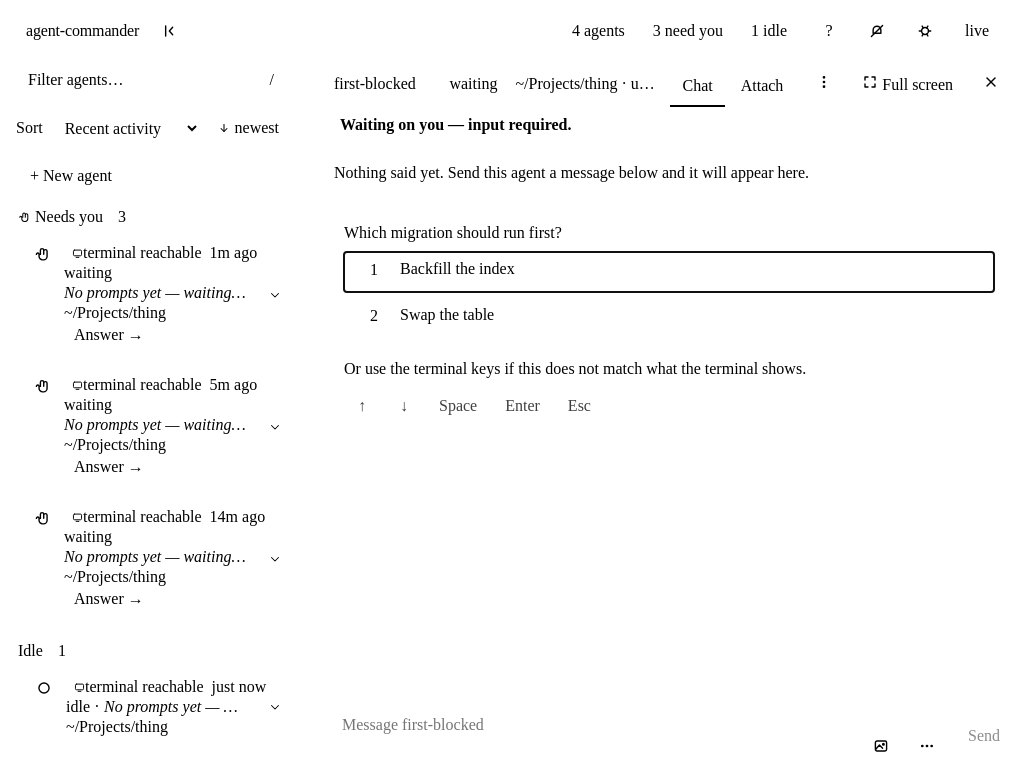
Test: F3 the hand-off after an answer › stays after the card has gone, for the next scan
Click the button with test id "answer-option" showing "1 Backfill the index": (457, 268) [344, 252, 994, 292]
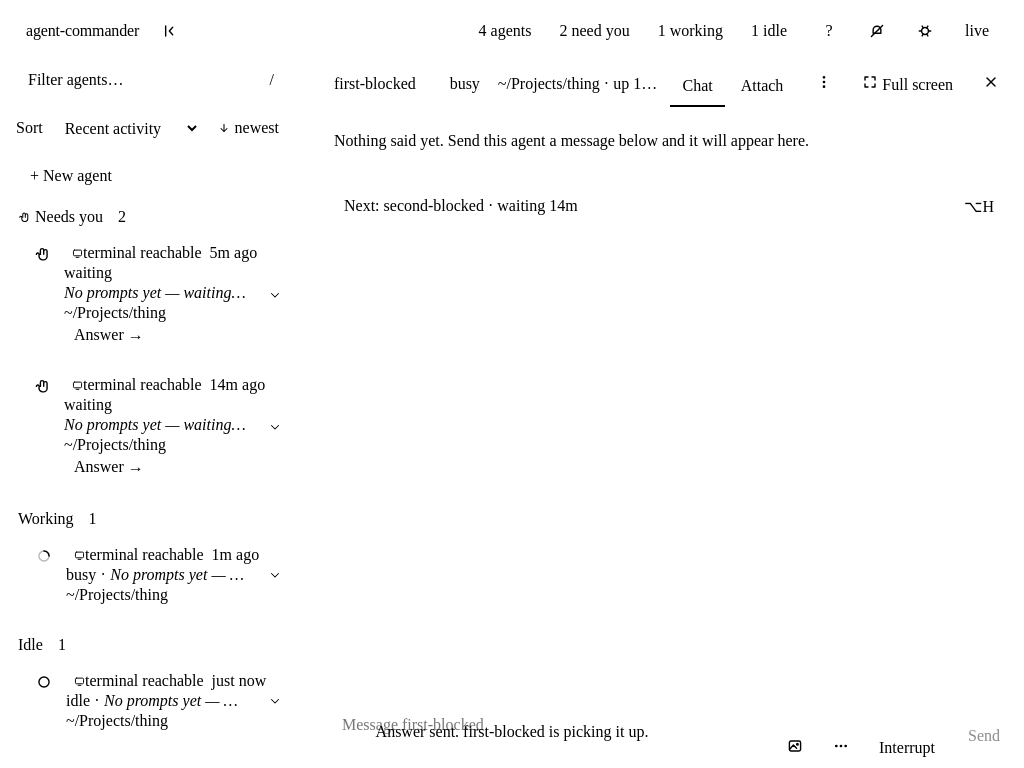
Check: the element with test id "answer-card" is gone
Check: the button with test id "answer-next" is shown, box [330, 186, 1008, 226]
